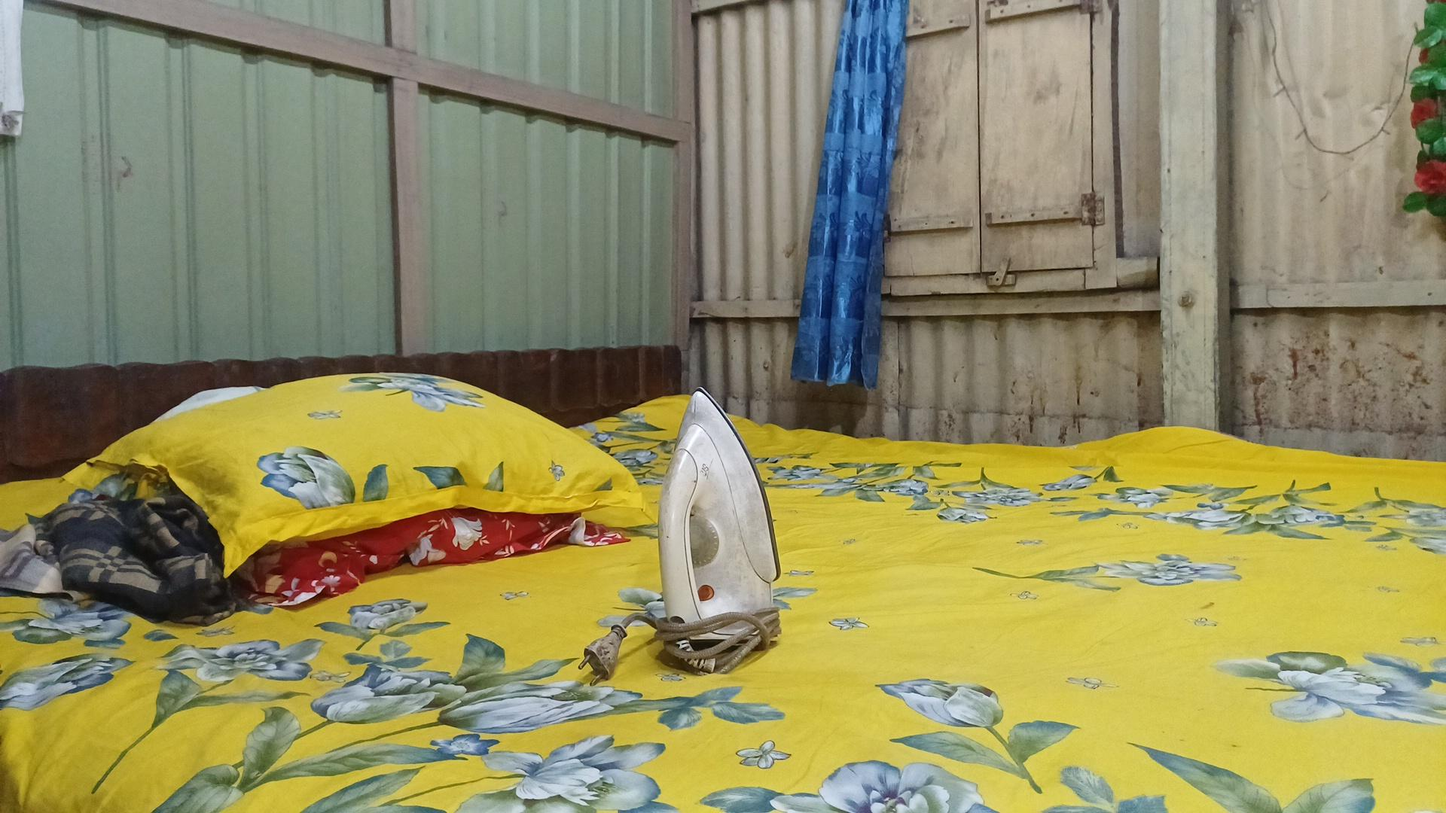Electric Iron: (631, 406, 828, 690)
Pillow: (176, 314, 629, 580)
Towel: (5, 482, 238, 640)
Window: (831, 6, 1143, 289)
